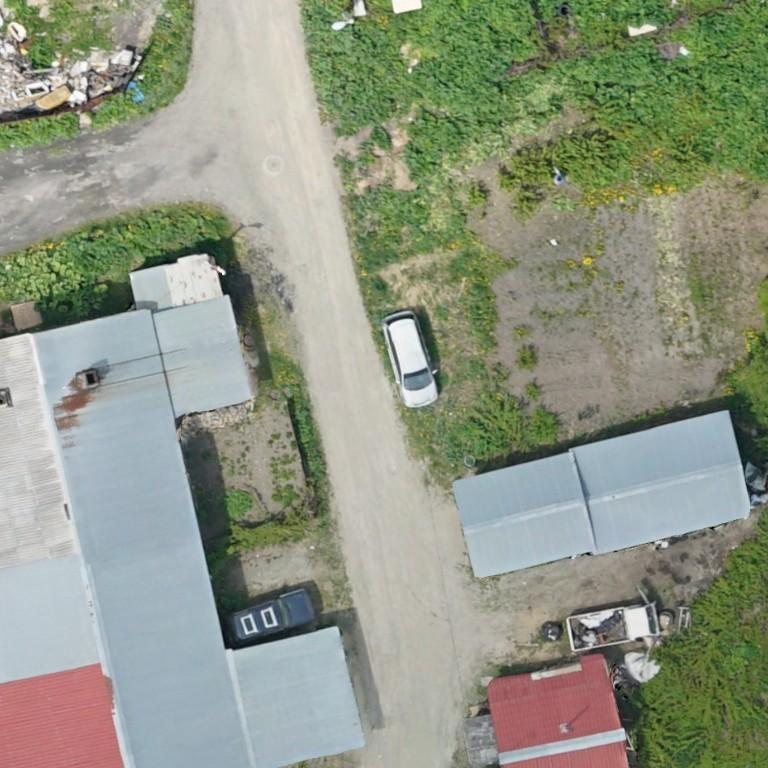hogweed: (302, 0, 767, 178), (68, 216, 217, 274), (348, 185, 440, 271), (534, 0, 679, 38), (290, 399, 325, 478), (0, 115, 80, 147), (95, 94, 127, 123), (373, 127, 389, 146)
